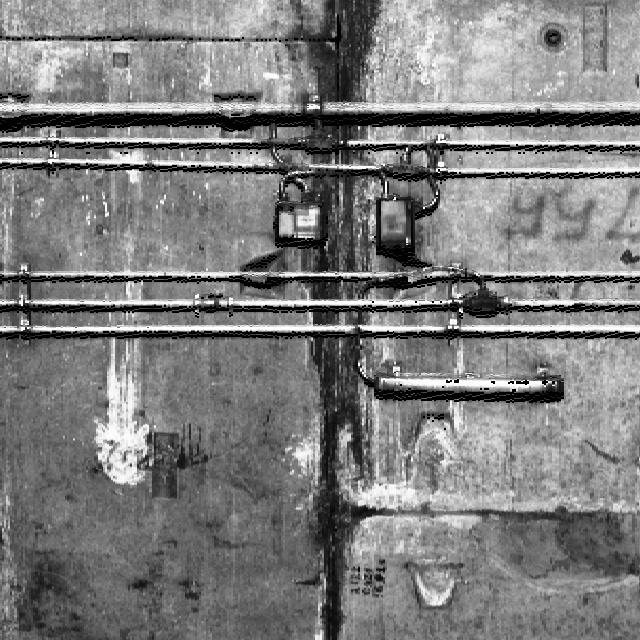leakage: (276, 0, 384, 639)
